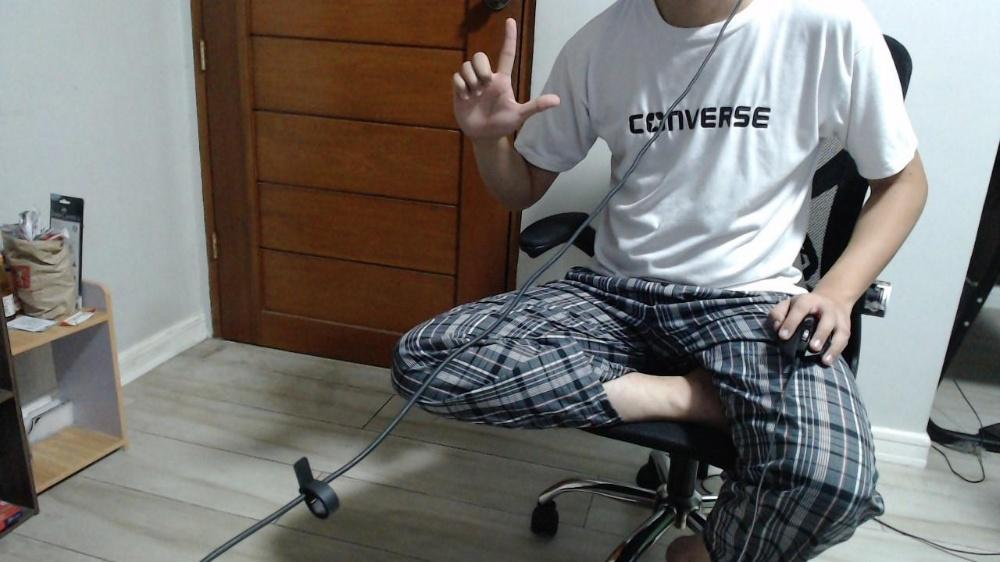l: (452, 16, 559, 138)
